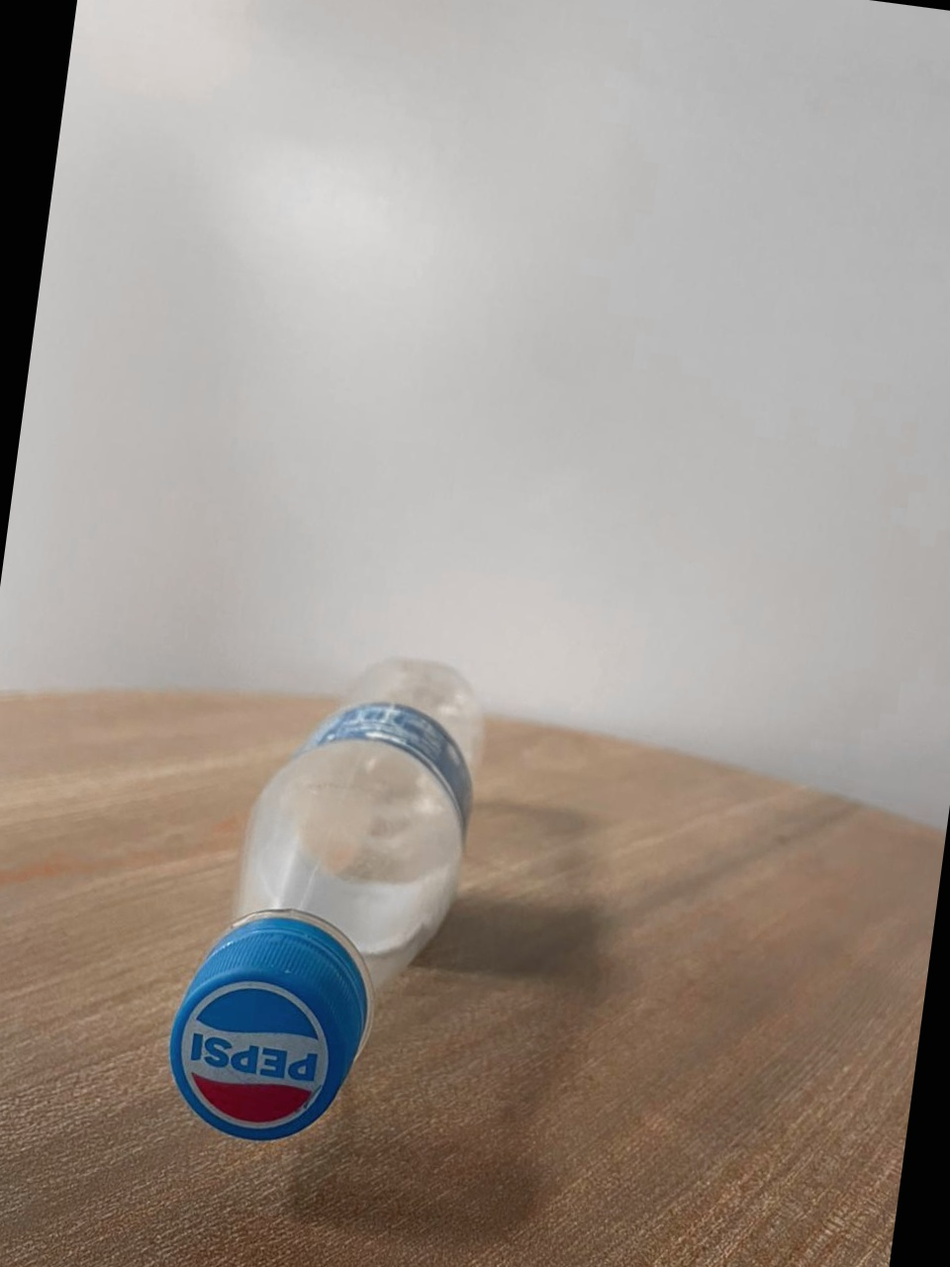Pepsi Bottle: (150, 615, 527, 1195), (152, 615, 525, 1178)
